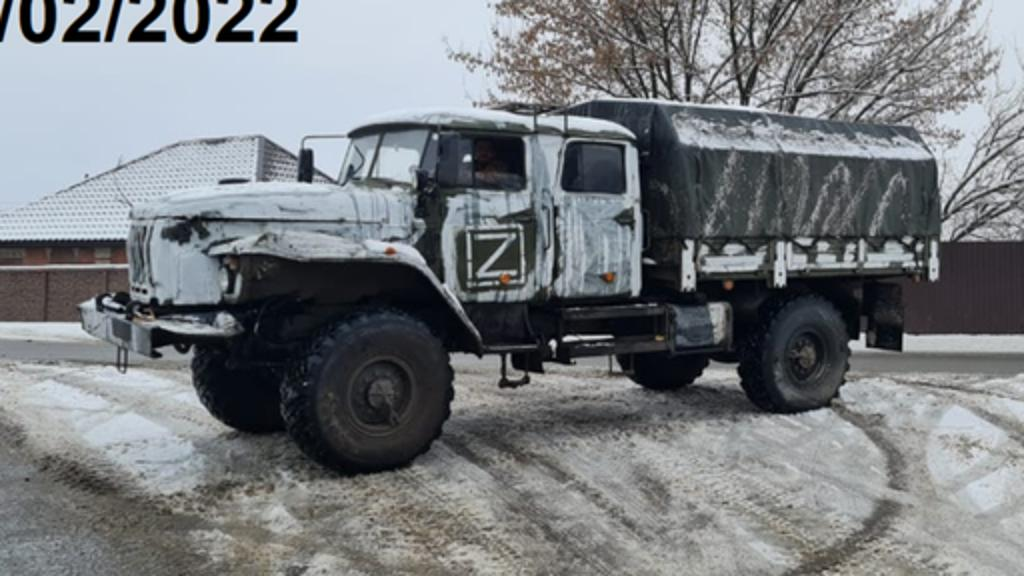TRUCK: (64, 78, 944, 482)
